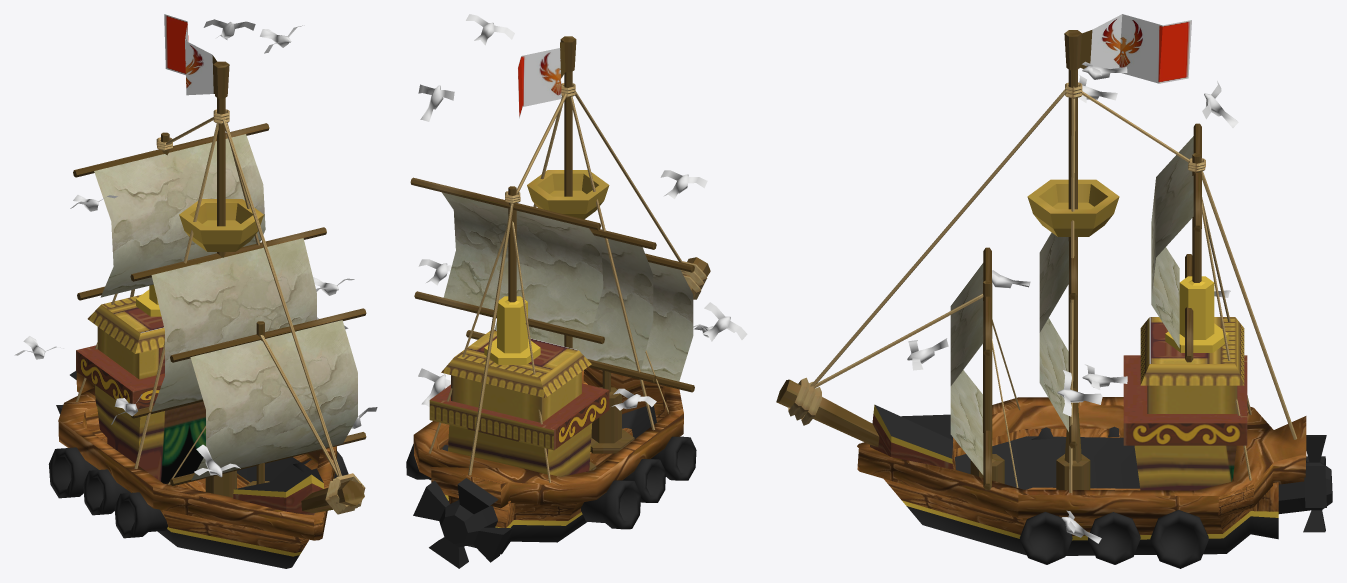
The model's file is pirate-shop.glb.
3 views of the same model, side by side, from view 1: azimuth 30°, elevation 25°; view 2: azimuth 150°, elevation 25°; view 3: azimuth 270°, elevation 25° (orthographic). The views are drawn at different scales.
Visible parts, largest first — view 1: Plane.001, BezierCircle, Plane, Plane.002, Cube, Cylinder.004, Cylinder.001, Cylinder.005, Cube.001, Cylinder.017, Cylinder.021, Cylinder.008 (+6 smaller); view 2: Cube, Plane.002, BezierCircle, Plane, Cylinder.023, Cylinder.004, Plane.001, Cylinder.001, Cylinder.002, Cylinder.005, Cylinder.021, Cylinder.003 (+15 smaller); view 3: BezierCircle, Cube, Cylinder.001, Plane.002, Plane.001, Plane, Cylinder.005, Cube.001, Cylinder.004, Cylinder.002, Cylinder.023, Cylinder.022 (+9 smaller).
Part boxes in pixels (x1,y1,x2,y2): Plane.001: (190,320,357,480); BezierCircle: (58,372,336,568); Plane: (151,238,316,411); Plane.002: (94,134,265,297); Cube: (76,294,205,484); Cylinder.004: (73,123,366,485); Cylinder.001: (164,14,236,497); Cylinder.005: (179,199,263,251); Cube.001: (233,468,323,515); Cylinder.017: (114,492,167,538); Cylinder.021: (48,447,98,498); Cylinder.008: (222,117,341,483); Cube: (429,329,609,476); Plane.002: (442,192,603,333); BezierCircle: (413,370,683,554); Plane: (494,235,653,370); Cylinder.023: (413,478,512,568); Cylinder.004: (410,177,694,392); Plane.001: (641,262,693,381); Cylinder.001: (518,36,596,470); Cylinder.002: (484,186,540,364); Cylinder.005: (527,170,609,219); Cylinder.021: (581,480,640,529); Cylinder.003: (590,370,634,453); BezierCircle: (857,397,1306,555); Cube: (1123,317,1247,490); Cylinder.001: (1056,14,1191,489); Plane.002: (1151,136,1193,348); Plane.001: (950,263,983,474); Plane: (1039,232,1068,431); Cylinder.005: (1027,179,1119,236); Cube.001: (870,404,955,469); Cylinder.004: (983,123,1201,490); Cylinder.002: (1165,153,1228,352); Cylinder.023: (1278,435,1332,532); Cylinder.022: (1150,510,1208,568).
Bounding box in the file's own units: 153 × 227 × 224.
Materials: 9 (6 with a texture image).
